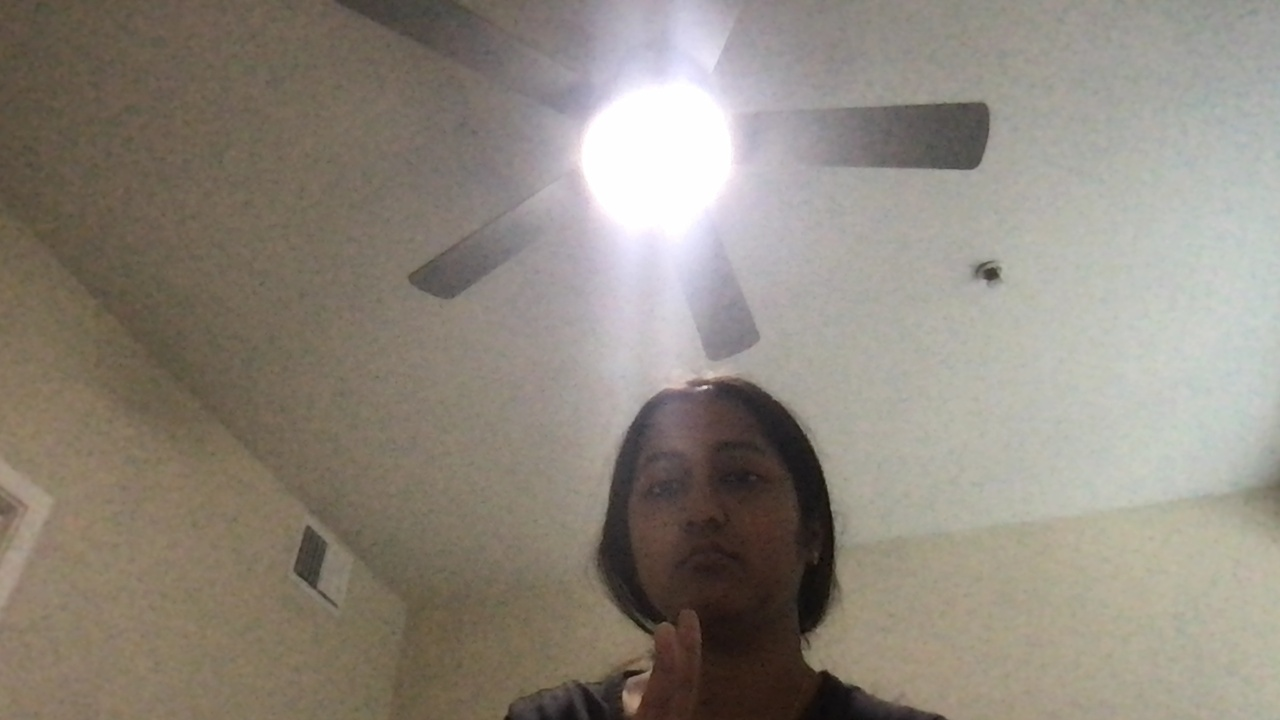k: (618, 610, 728, 715)
